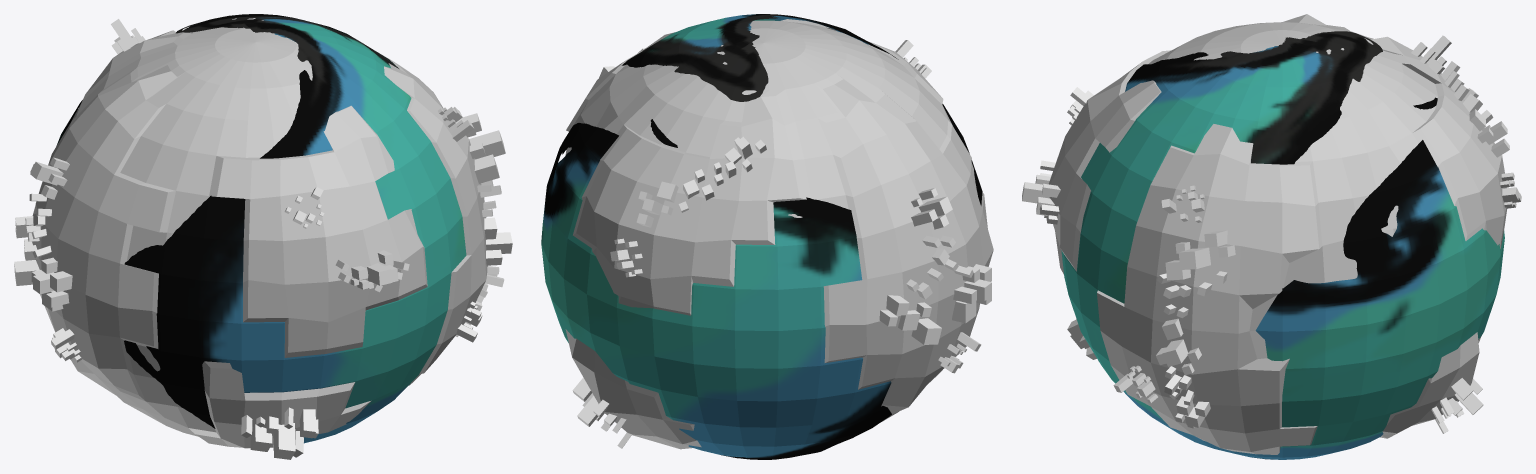
Rendered from World1.fbx.
3 views of the same model, side by side, from view 1: azimuth 30°, elevation 25°; view 2: azimuth 150°, elevation 25°; view 3: azimuth 270°, elevation 25° (orthographic). The views are drawn at different scales.
Parts seen in each view (by area): view 1: World, Water, City3, City4, City1, City2, City5; view 2: World, Water, City2, City1, City4, City3, City5; view 3: World, Water, City4, City2, City1, City5, City3.
Boxes of the visible parts, x1,y1,x2,y2 form: World: (32,27,487,448); Water: (56,14,466,443); City3: (14,113,505,459); City4: (25,35,504,457); City1: (31,38,482,336); City2: (30,19,512,265); City5: (51,107,482,362); World: (565,19,993,449); Water: (541,14,982,459); City2: (572,136,952,426); City1: (636,181,991,323); City4: (582,161,973,448); City3: (599,66,941,344); City5: (610,40,981,373); World: (1048,14,1507,454); Water: (1061,31,1504,459); City4: (1039,61,1493,433); City2: (1156,35,1483,415); City1: (1022,109,1509,428); City5: (1067,87,1521,402); City3: (1067,230,1235,348).
Size of the model in its own units: 217 by 193 by 217.
